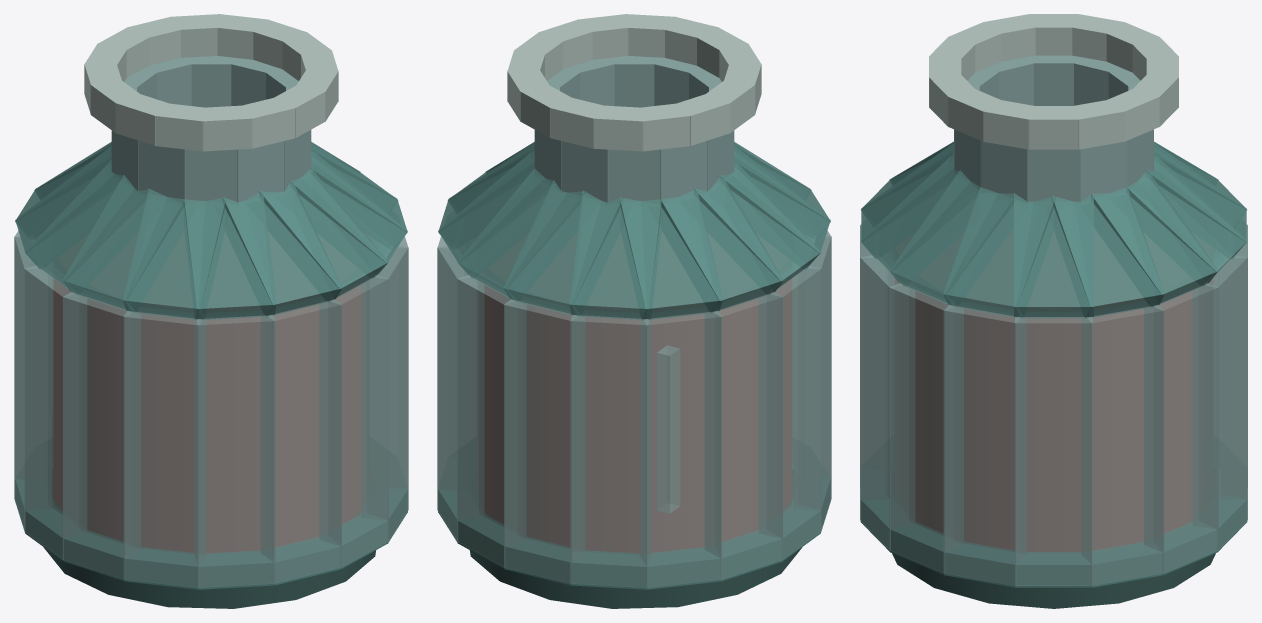
Rendered from CMU3DBottleBicaridineCloud.glb.
3 renders of one model, left to right at view 1: azimuth 30°, elevation 25°; view 2: azimuth 150°, elevation 25°; view 3: azimuth 270°, elevation 25°, orthographic.
Parts seen in each view (by area): view 1: static liquid volume level 5, hollow bottle wall 11, hollow bottle wall 12, hollow bottle wall 13, hollow bottle wall 10, hollow bottle wall 14, hollow bottle wall 09, hollow bottle wall 15, inward glass shoulder 11, inward glass shoulder 13, inward glass shoulder 12, hollow bottle wall 08 (+45 smaller); view 2: static liquid volume level 5, hollow bottle wall 07, hollow bottle wall 06, hollow bottle wall 05, hollow bottle wall 08, hollow bottle wall 04, hollow bottle wall 09, hollow bottle wall 03, inward glass shoulder 07, inward glass shoulder 05, inward glass shoulder 06, hollow bottle wall 10 (+46 smaller); view 3: static liquid volume level 5, hollow bottle wall 02, hollow bottle wall 16, hollow bottle wall 01, hollow bottle wall 03, hollow bottle wall 15, hollow bottle wall 04, hollow bottle wall 14, inward glass shoulder 02, inward glass shoulder 16, inward glass shoulder 01, inward glass shoulder 03 (+43 smaller).
Boxes of the visible parts, x1,y1,x2,y2 form: static liquid volume level 5: (54,279,360,552); hollow bottle wall 11: (123,310,205,587); hollow bottle wall 12: (194,314,275,587); hollow bottle wall 13: (261,299,341,583); hollow bottle wall 10: (62,292,140,579); hollow bottle wall 14: (319,275,388,567); hollow bottle wall 09: (24,265,86,559); hollow bottle wall 15: (362,246,408,541); inward glass shoulder 11: (123,188,226,320); inward glass shoulder 13: (222,180,342,316); inward glass shoulder 12: (184,190,276,320); hollow bottle wall 08: (14,236,51,531); static liquid volume level 5: (485,279,791,552); hollow bottle wall 07: (640,310,722,587); hollow bottle wall 06: (570,314,651,587); hollow bottle wall 05: (504,299,584,583); hollow bottle wall 08: (705,292,783,579); hollow bottle wall 04: (457,275,526,567); hollow bottle wall 09: (759,265,821,559); hollow bottle wall 03: (437,246,483,541); inward glass shoulder 07: (619,188,722,320); inward glass shoulder 05: (503,180,623,316); inward glass shoulder 06: (569,190,661,320); hollow bottle wall 10: (794,236,831,531); static liquid volume level 5: (895,279,1212,551); hollow bottle wall 02: (1081,305,1164,585); hollow bottle wall 16: (943,305,1026,585); hollow bottle wall 01: (1015,315,1092,585); hollow bottle wall 03: (1144,283,1218,573); hollow bottle wall 15: (889,283,963,573); hollow bottle wall 04: (1193,255,1247,550); hollow bottle wall 14: (860,255,914,550); inward glass shoulder 02: (1052,187,1164,318); inward glass shoulder 16: (943,187,1055,318); inward glass shoulder 01: (1014,193,1093,317); inward glass shoulder 03: (1091,170,1218,307).
Bounding box in the file's own units: 0.3384 × 0.453 × 0.3384.
